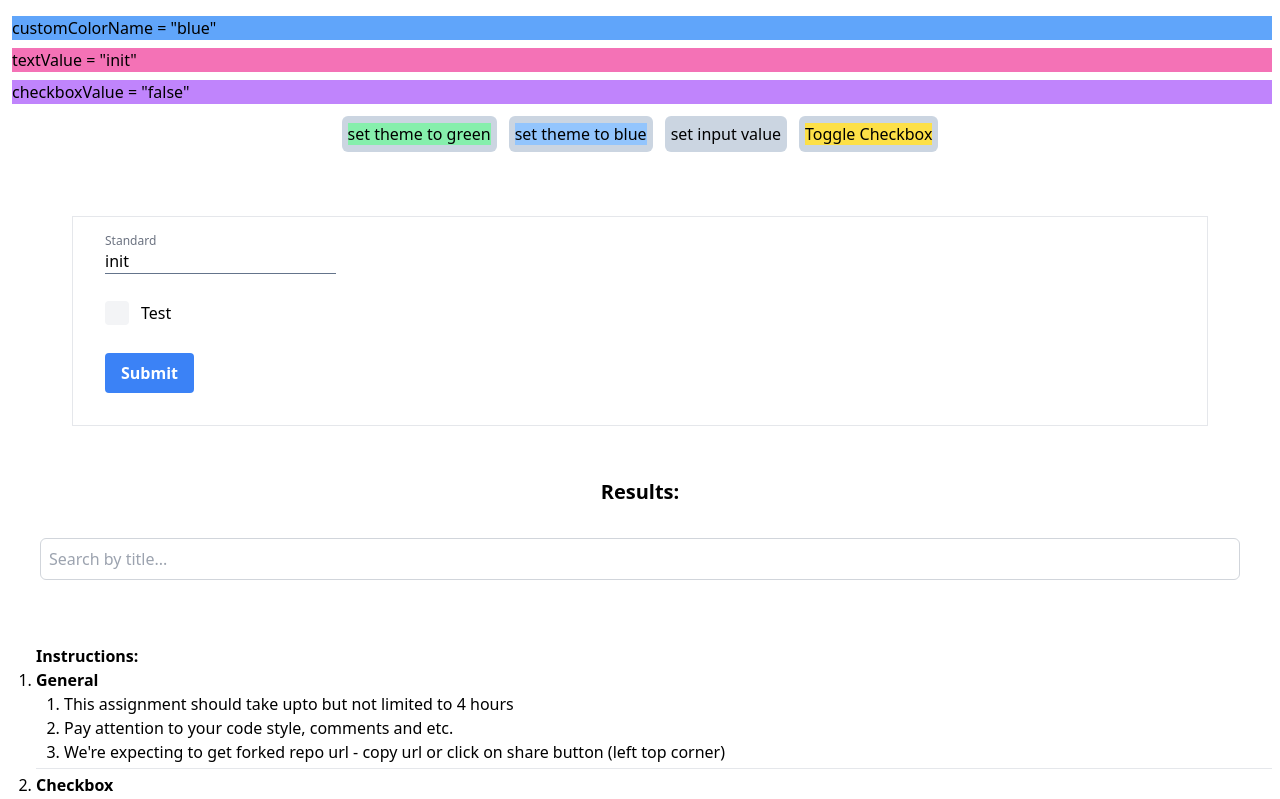
Scenario: HomePage component › changes theme color to green on button click
This screenshot has width=1280, height=799.
Click the button "set theme to green".
click(419, 134)  # box [342,116,497,152]
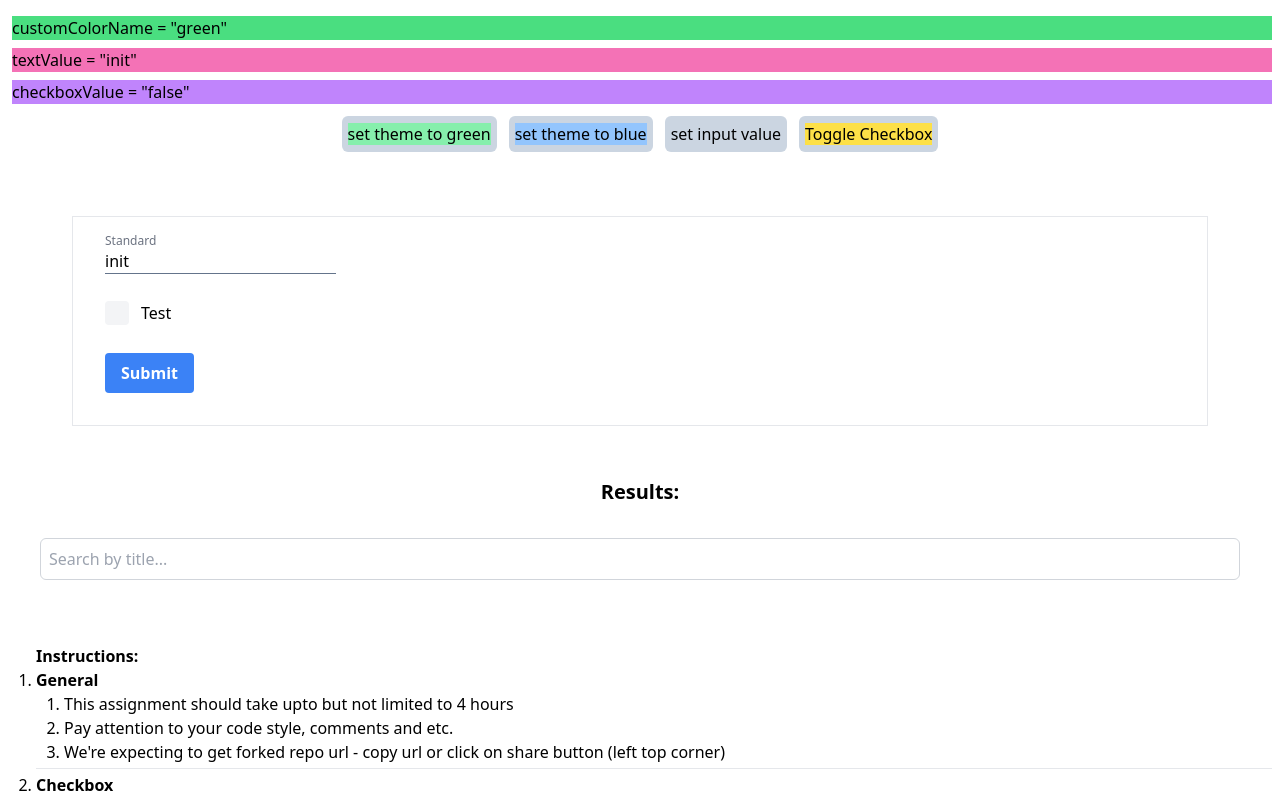
Expected: the text "customColorName = \"green\"" is shown, [12,16,1272,40]
